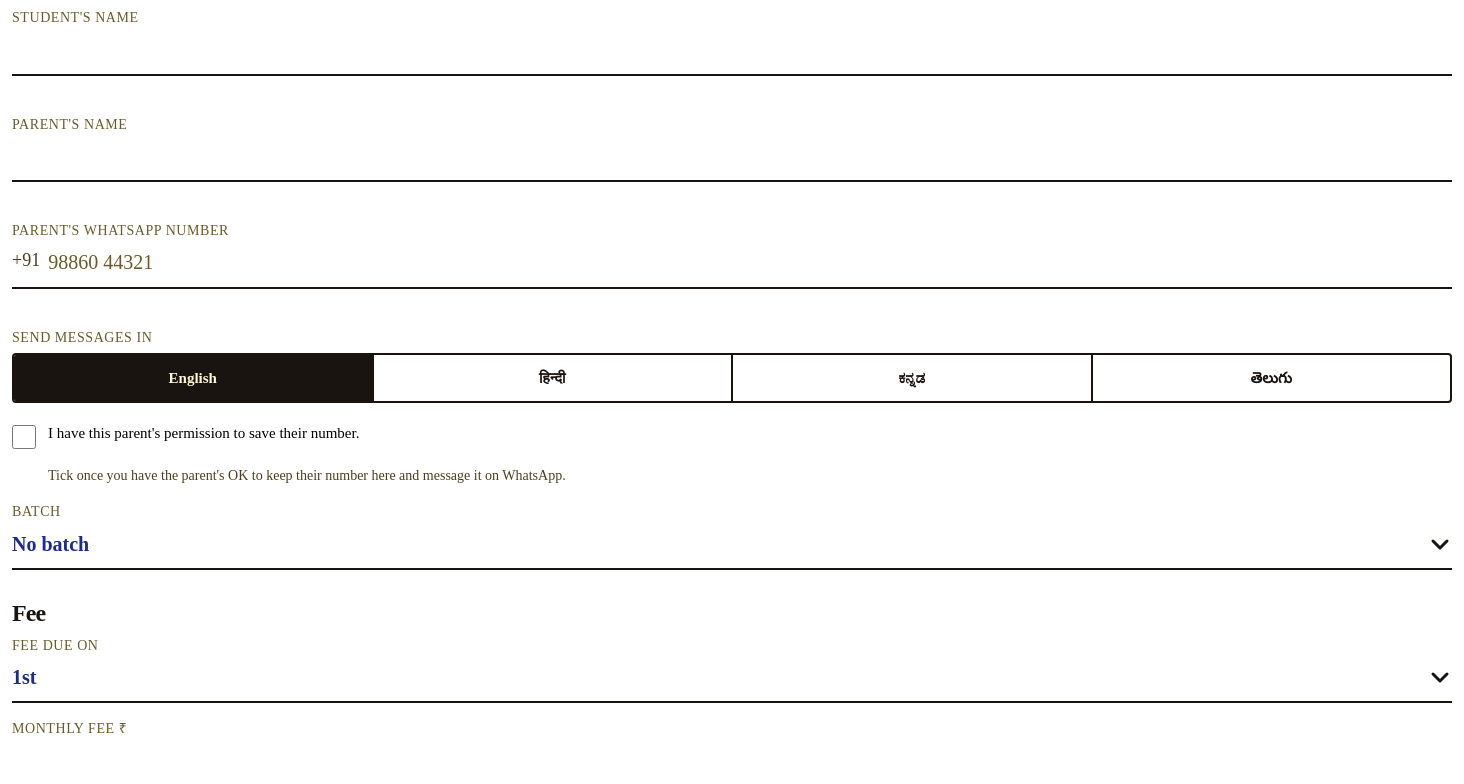
it: add (16, 17, 24 to 28) › shows every error at once and sends nothing
Step 1. Type "98860" into the text box labelled "Parent's WhatsApp number" → (750, 263), box [48,241,1452,285]
(page scrolled)
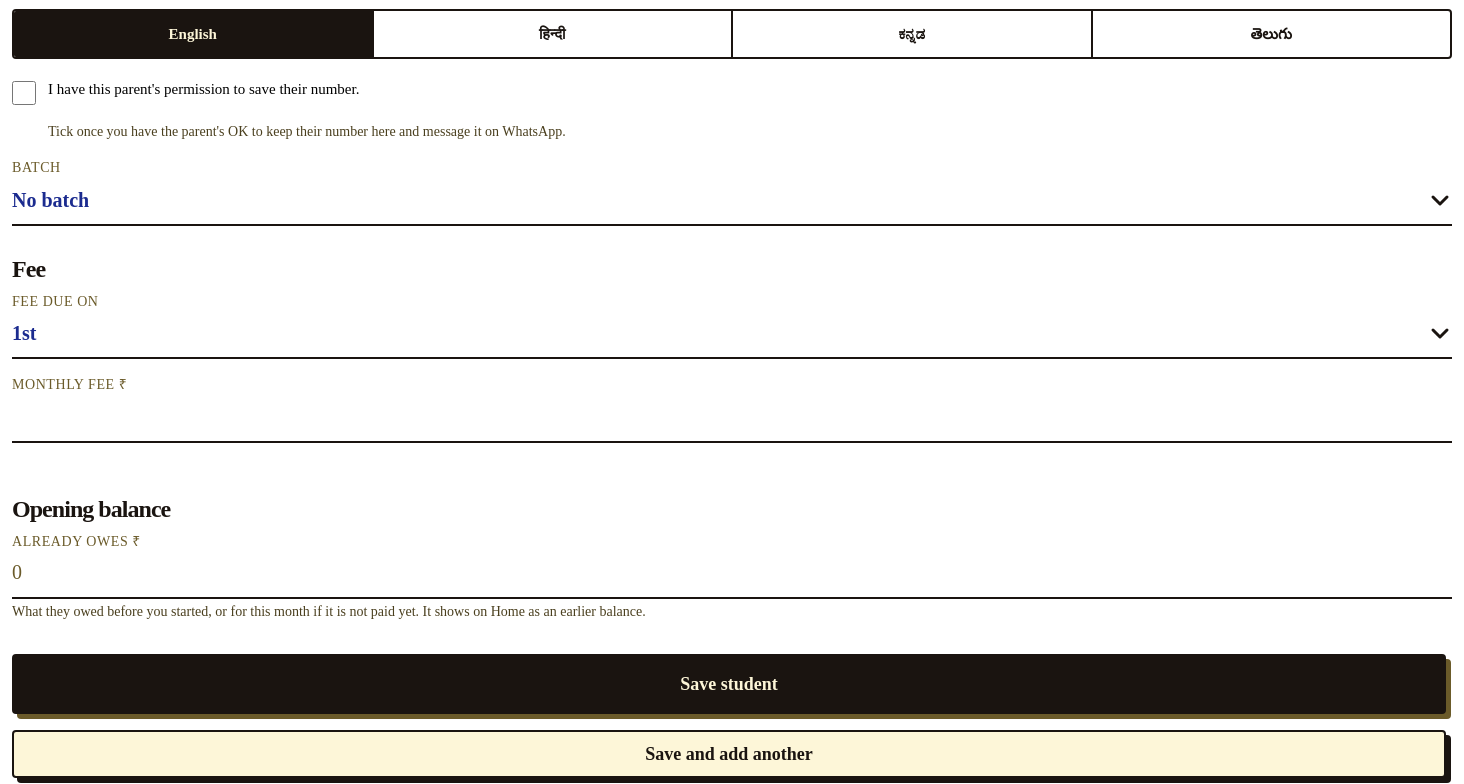
Step 2. Click the button "Save student" → (729, 684), box [12,654,1446,714]
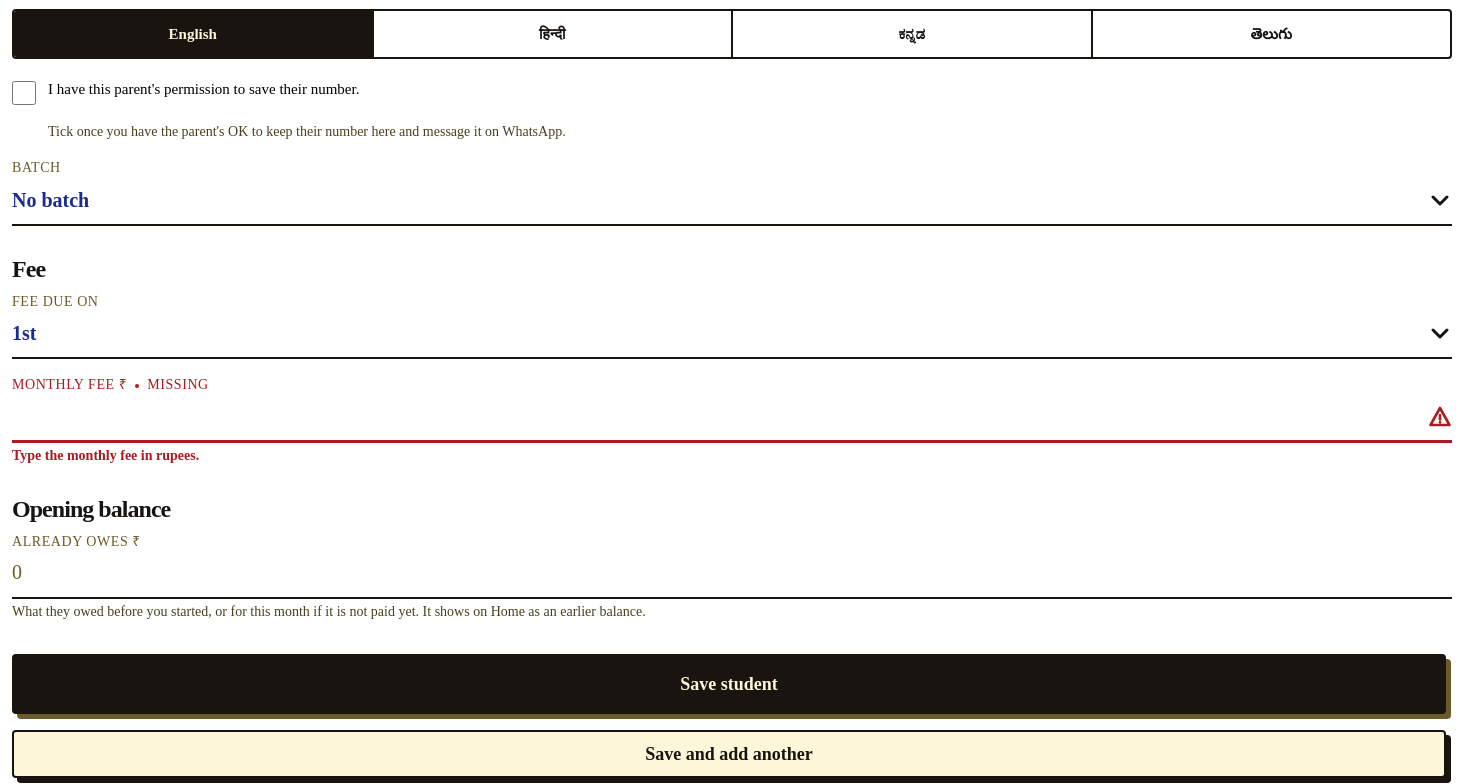
Now the text "Type the monthly fee in rupees." is shown, box [12,448,199,463]
